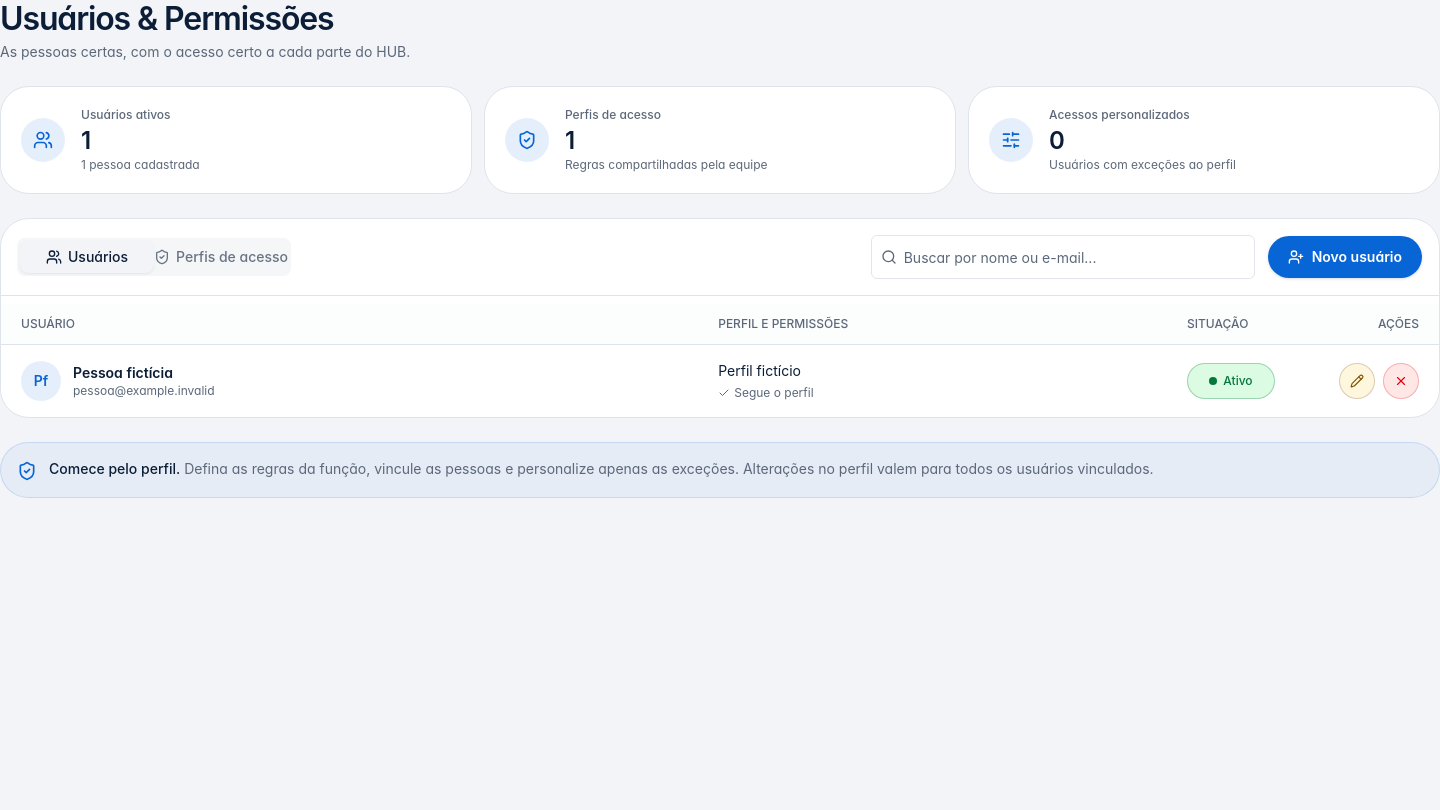
Test: mostra somente a confirmação de exclusão e retorna ao rascunho do perfil
The image size is (1440, 810).
Click the tab "Perfis de acesso" at (221, 257), box [154,241,288,273]
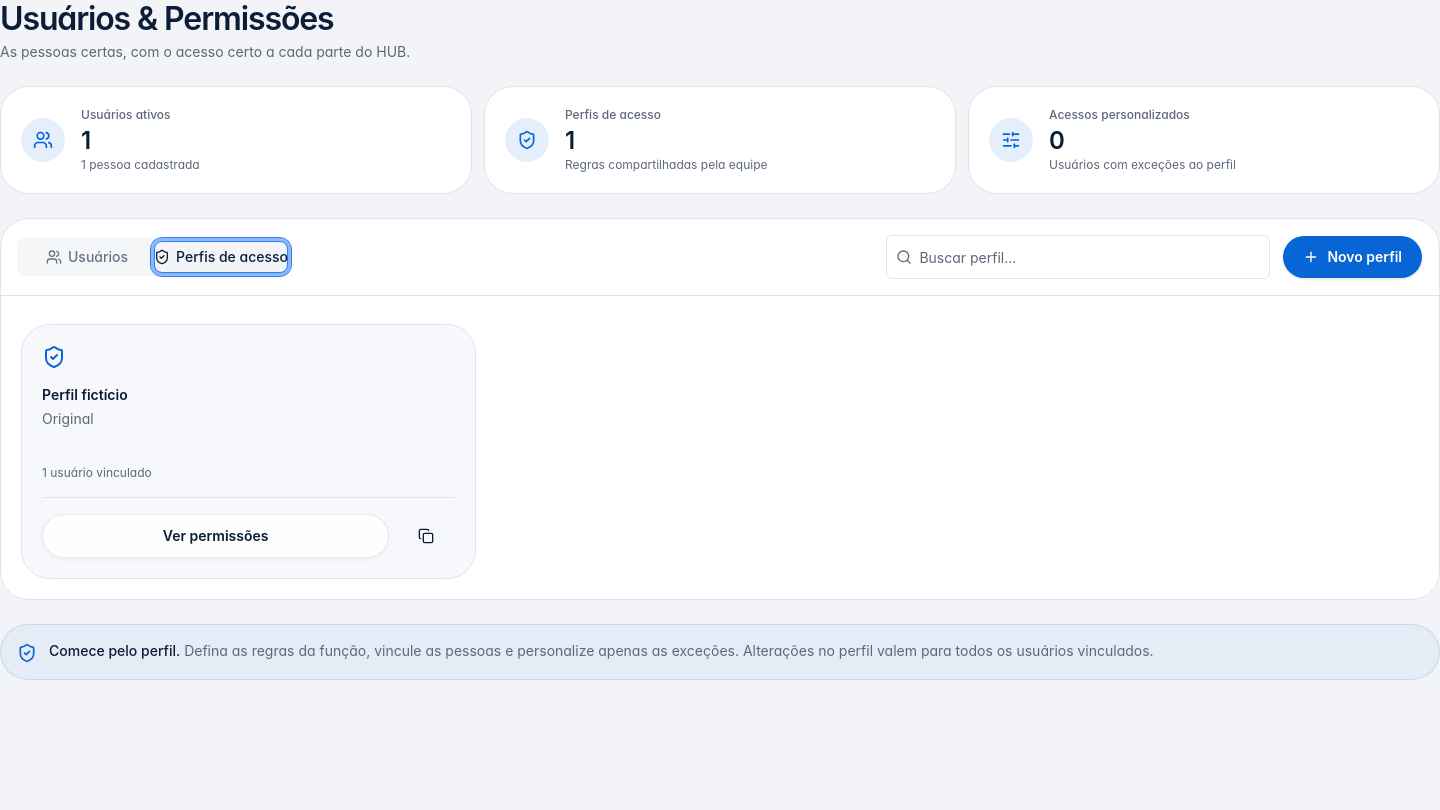
Click the button "Ver permissões" at (216, 536), box [42,514,389,558]
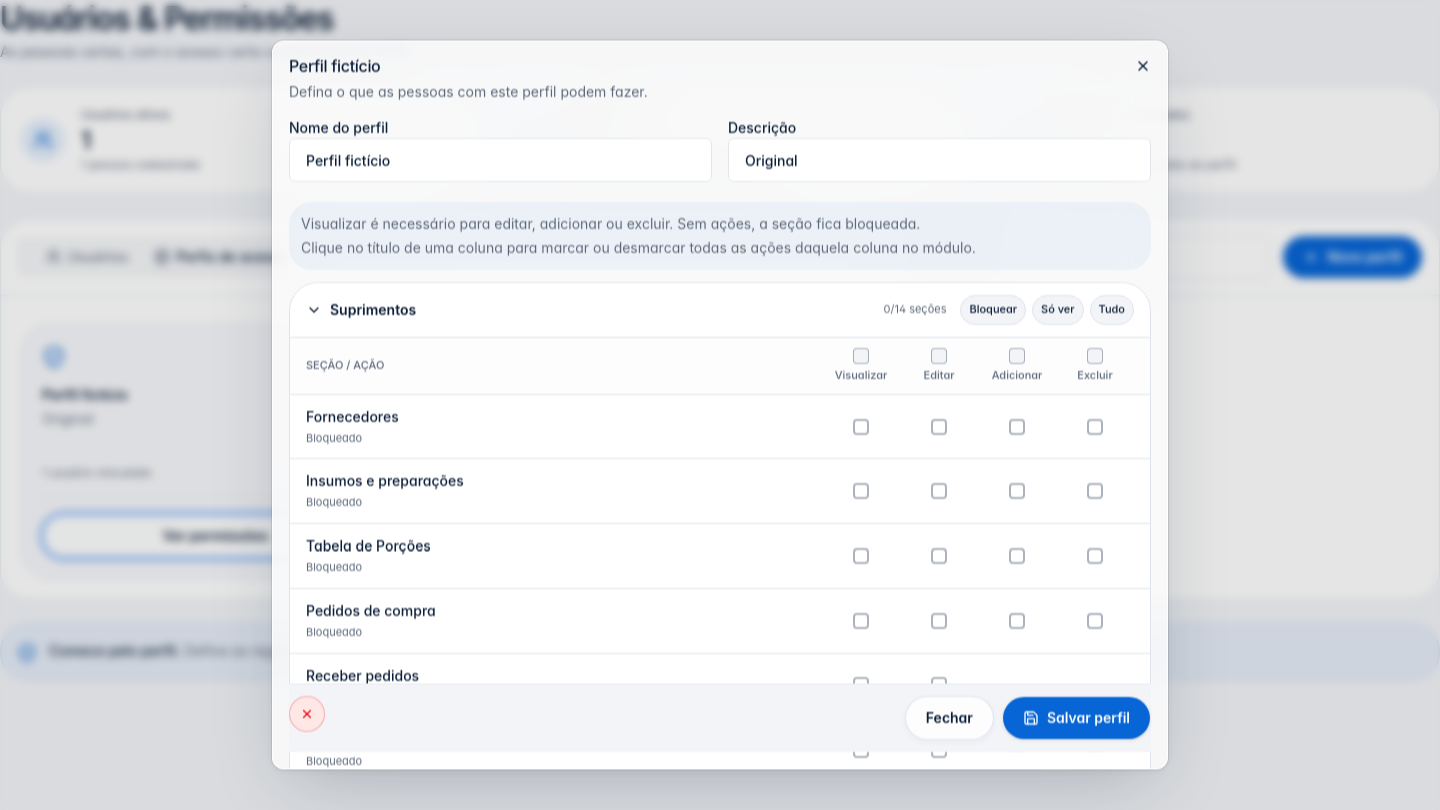
Replace the text in the field labelled "Descrição" with "Rascunho fictício preservado" at (940, 160), box [728,138,1151,182]
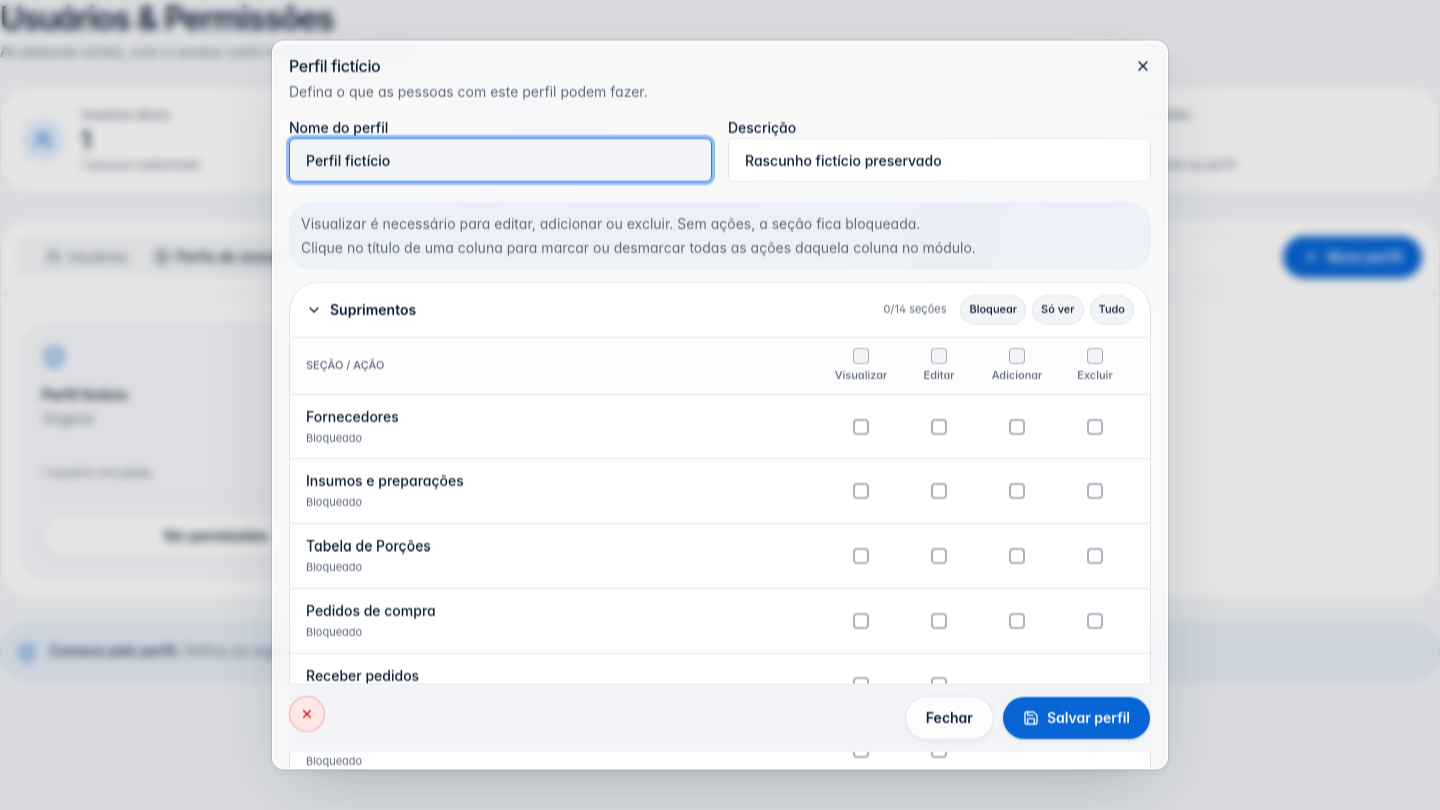
Click the button named "Excluir perfil" at (307, 714), box [289,696,325,732]
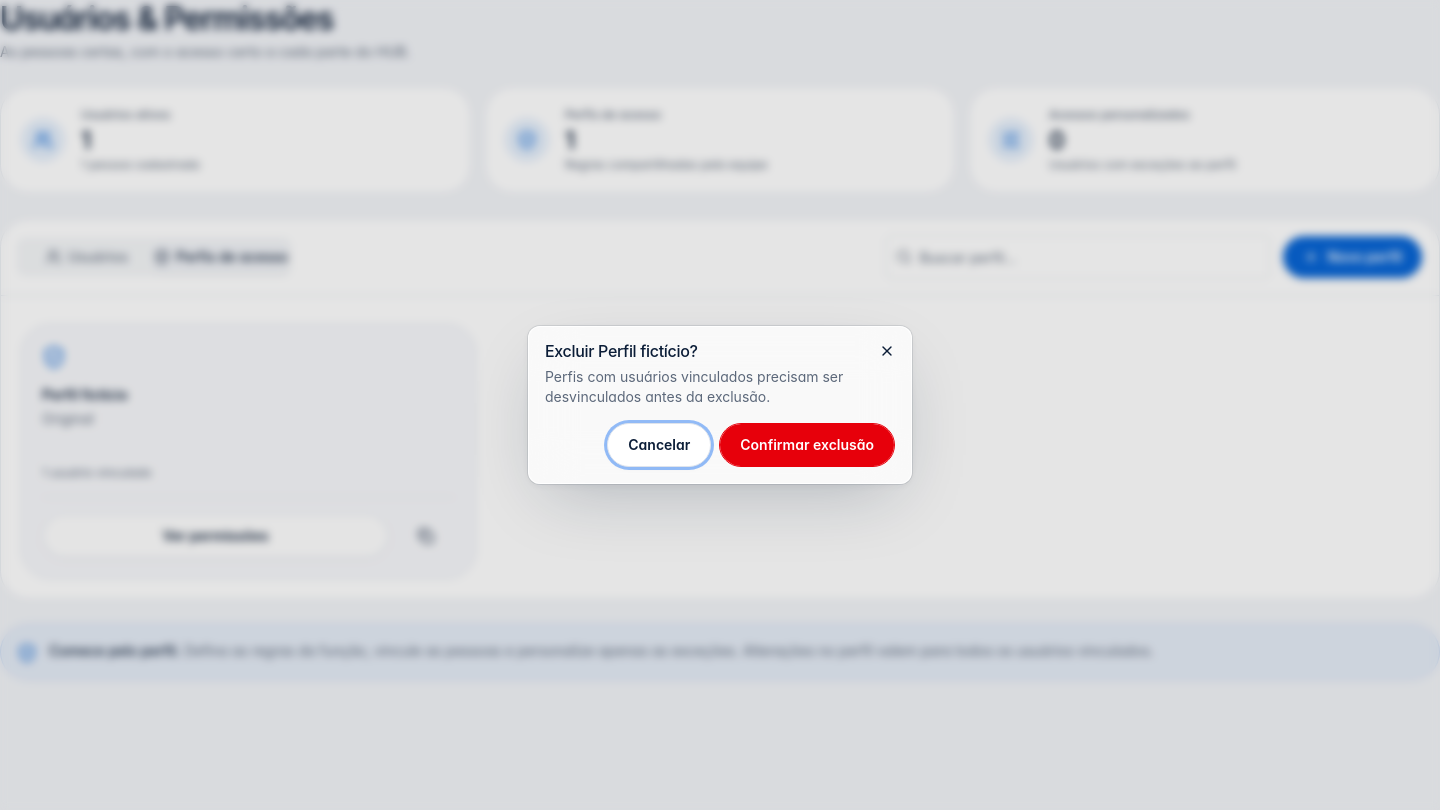
Result: the number of dialogs is 1 at [528,326,912,484]
Click the button "Cancelar" at (659, 445), box [607,423,711,467]
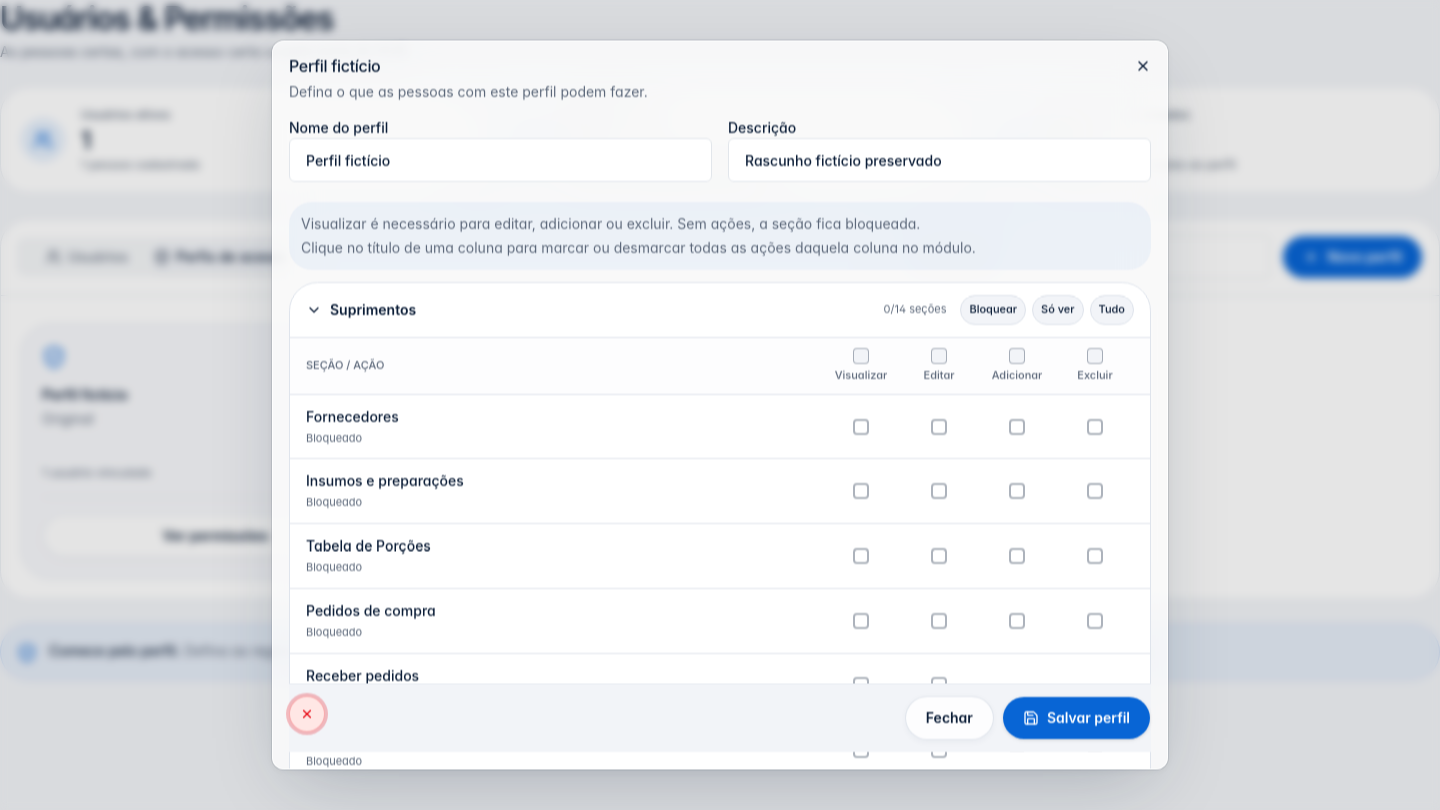
Result: the number of dialogs is 1 at [272,40,1168,770]
